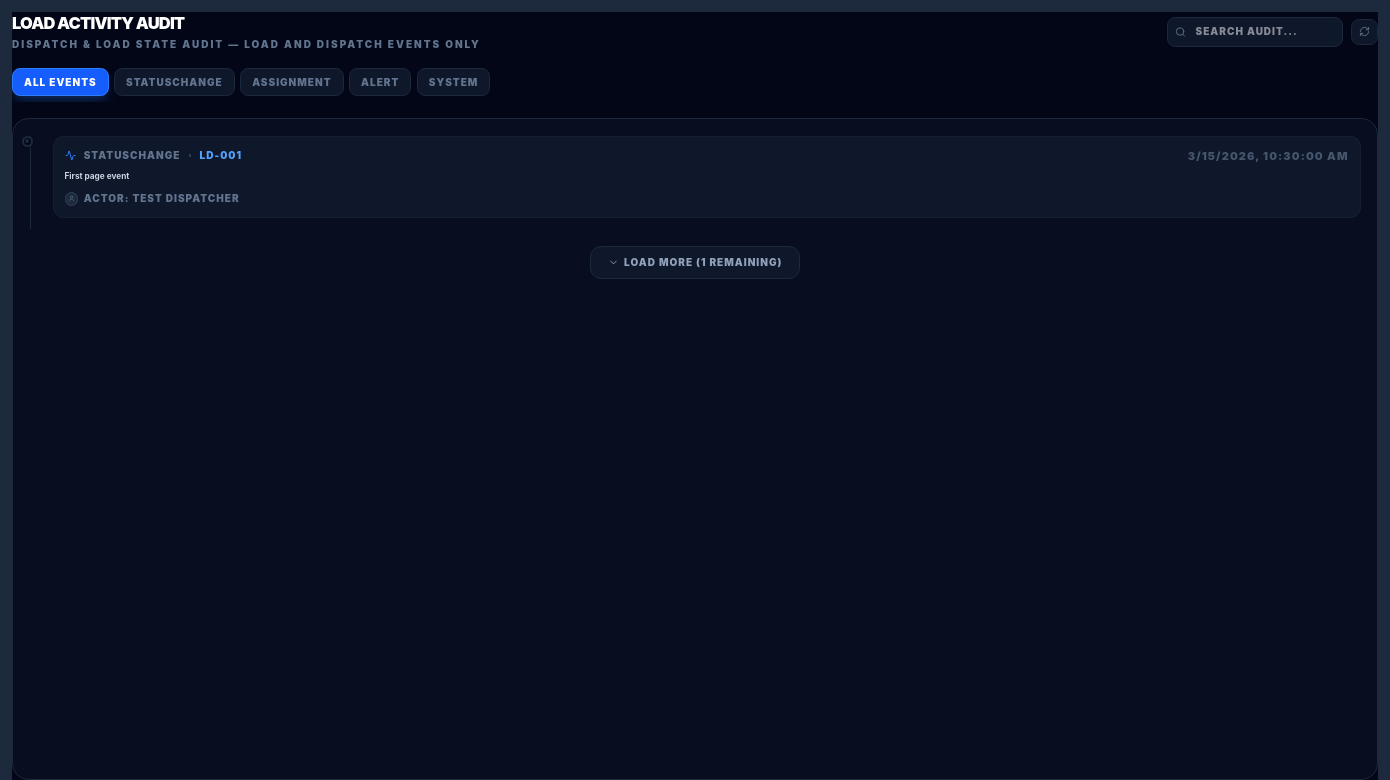
AuditLogs component › appends entries when load more is clicked
This screenshot has width=1390, height=780.
Expected: the text "First page event" is shown, left=64, top=171, right=129, bottom=181
Click the button "LOAD MORE (1 remaining)" at (695, 263), box left=590, top=246, right=800, bottom=279
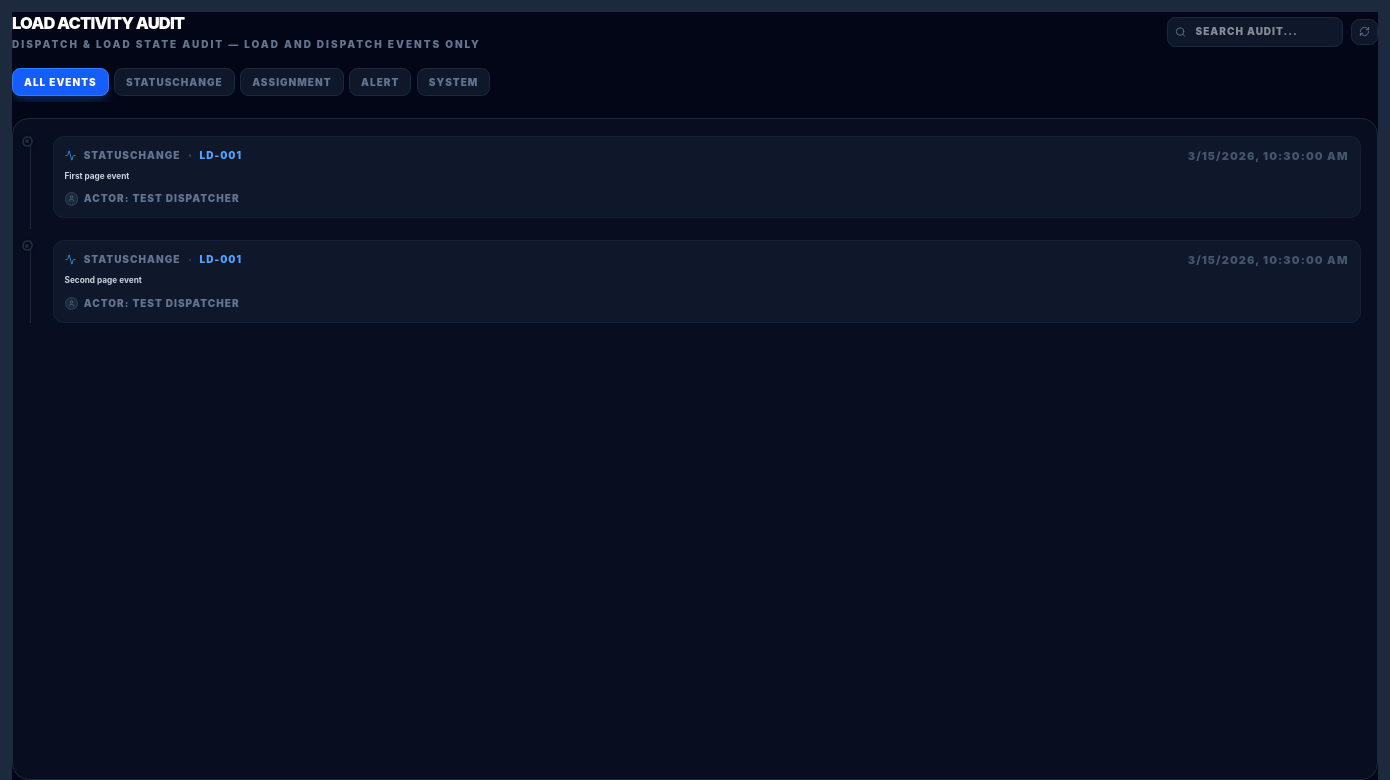
Expected: the text "First page event" is shown, left=64, top=171, right=129, bottom=181
Now the text "Second page event" is shown, box left=64, top=275, right=142, bottom=285
